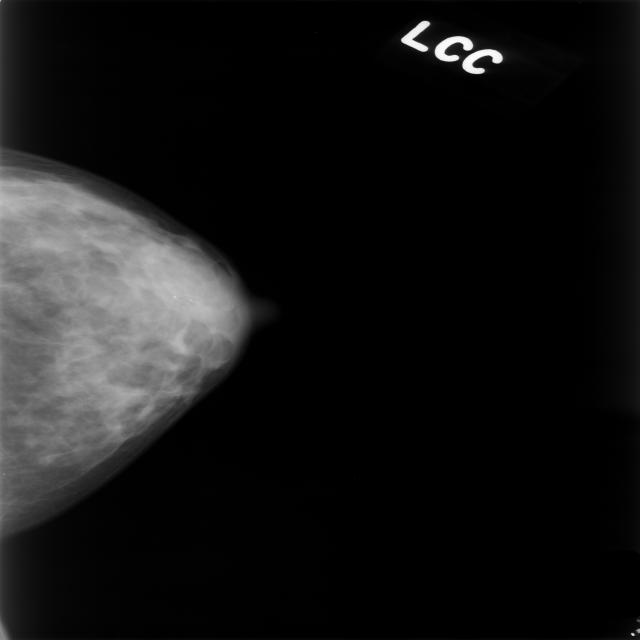cancer: (0, 168, 244, 438)
